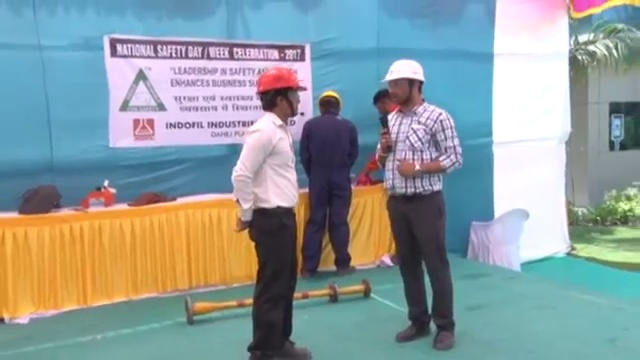helmet: (254, 65, 311, 94), (379, 59, 429, 85), (317, 90, 343, 106)
helmet_off: (372, 88, 403, 121)
helmet_on: (253, 65, 312, 127), (379, 58, 429, 114), (316, 87, 345, 119)
person: (378, 59, 463, 352), (231, 65, 314, 360), (300, 90, 359, 279)
